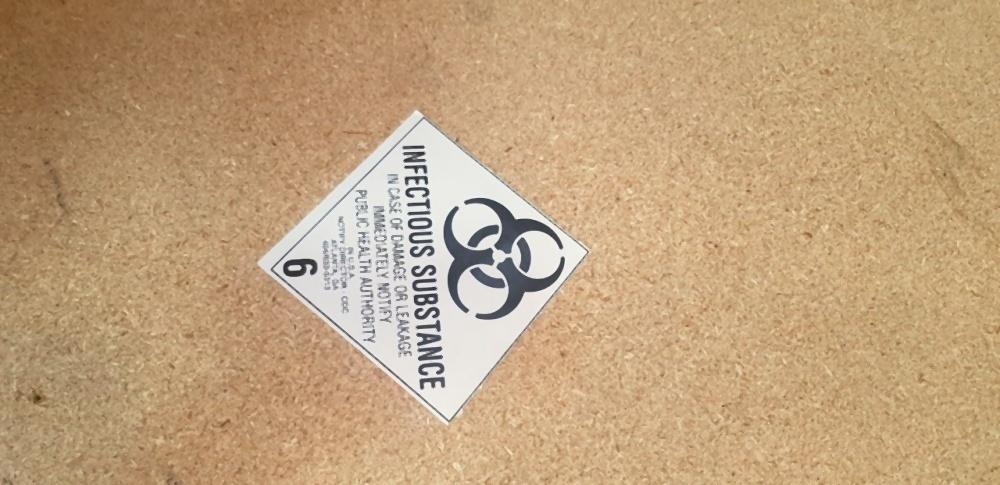infectious-substance: (256, 108, 592, 424)
